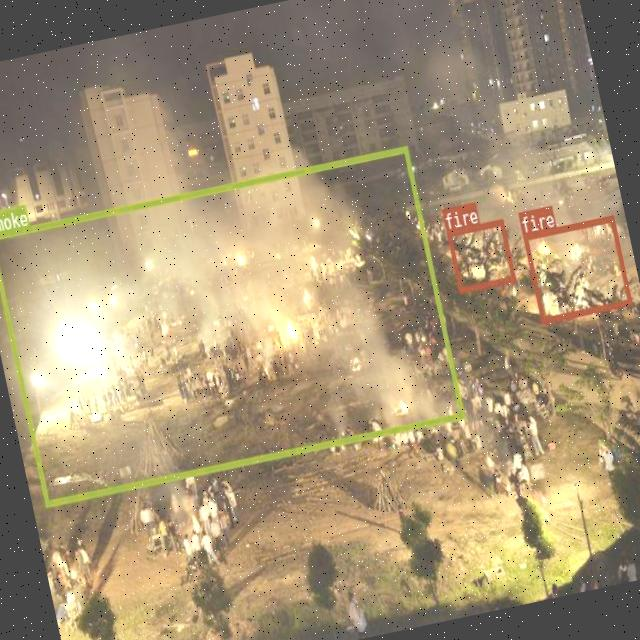fire: (522, 214, 631, 323), (445, 218, 515, 292)
smoke: (0, 145, 463, 506)
